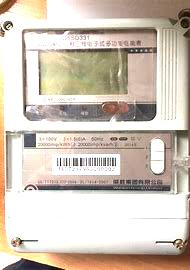digital: (3, 17, 190, 254)
